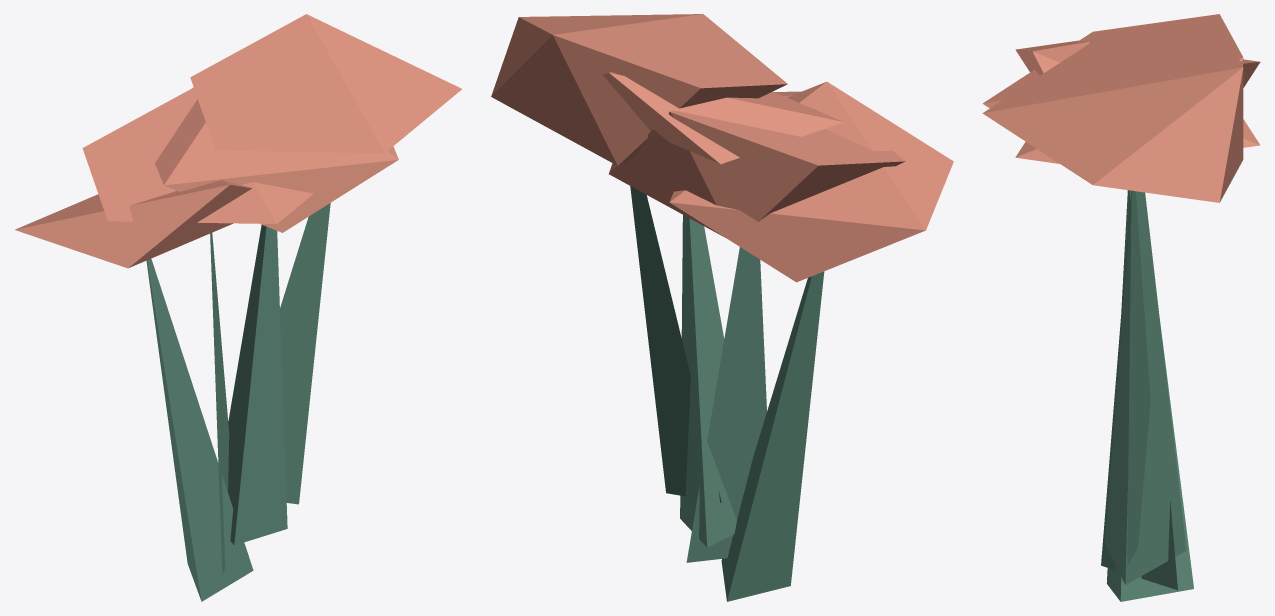
File: Plant_01_LOD2.fbx
The picture shows the model from 3 angles, left to right: view 1: azimuth 30°, elevation 25°; view 2: azimuth 150°, elevation 25°; view 3: azimuth 270°, elevation 25°; orthographic projection. The views are drawn at different scales.
Visible parts, largest first — view 1: Plant_01_LOD2; view 2: Plant_01_LOD2; view 3: Plant_01_LOD2.
Boxes of the visible parts, x1,y1,x2,y2 form: Plant_01_LOD2: [15, 14, 461, 601]; Plant_01_LOD2: [491, 14, 953, 601]; Plant_01_LOD2: [982, 14, 1260, 601].
Bounding box in the file's own units: 154 × 182 × 75.15.
